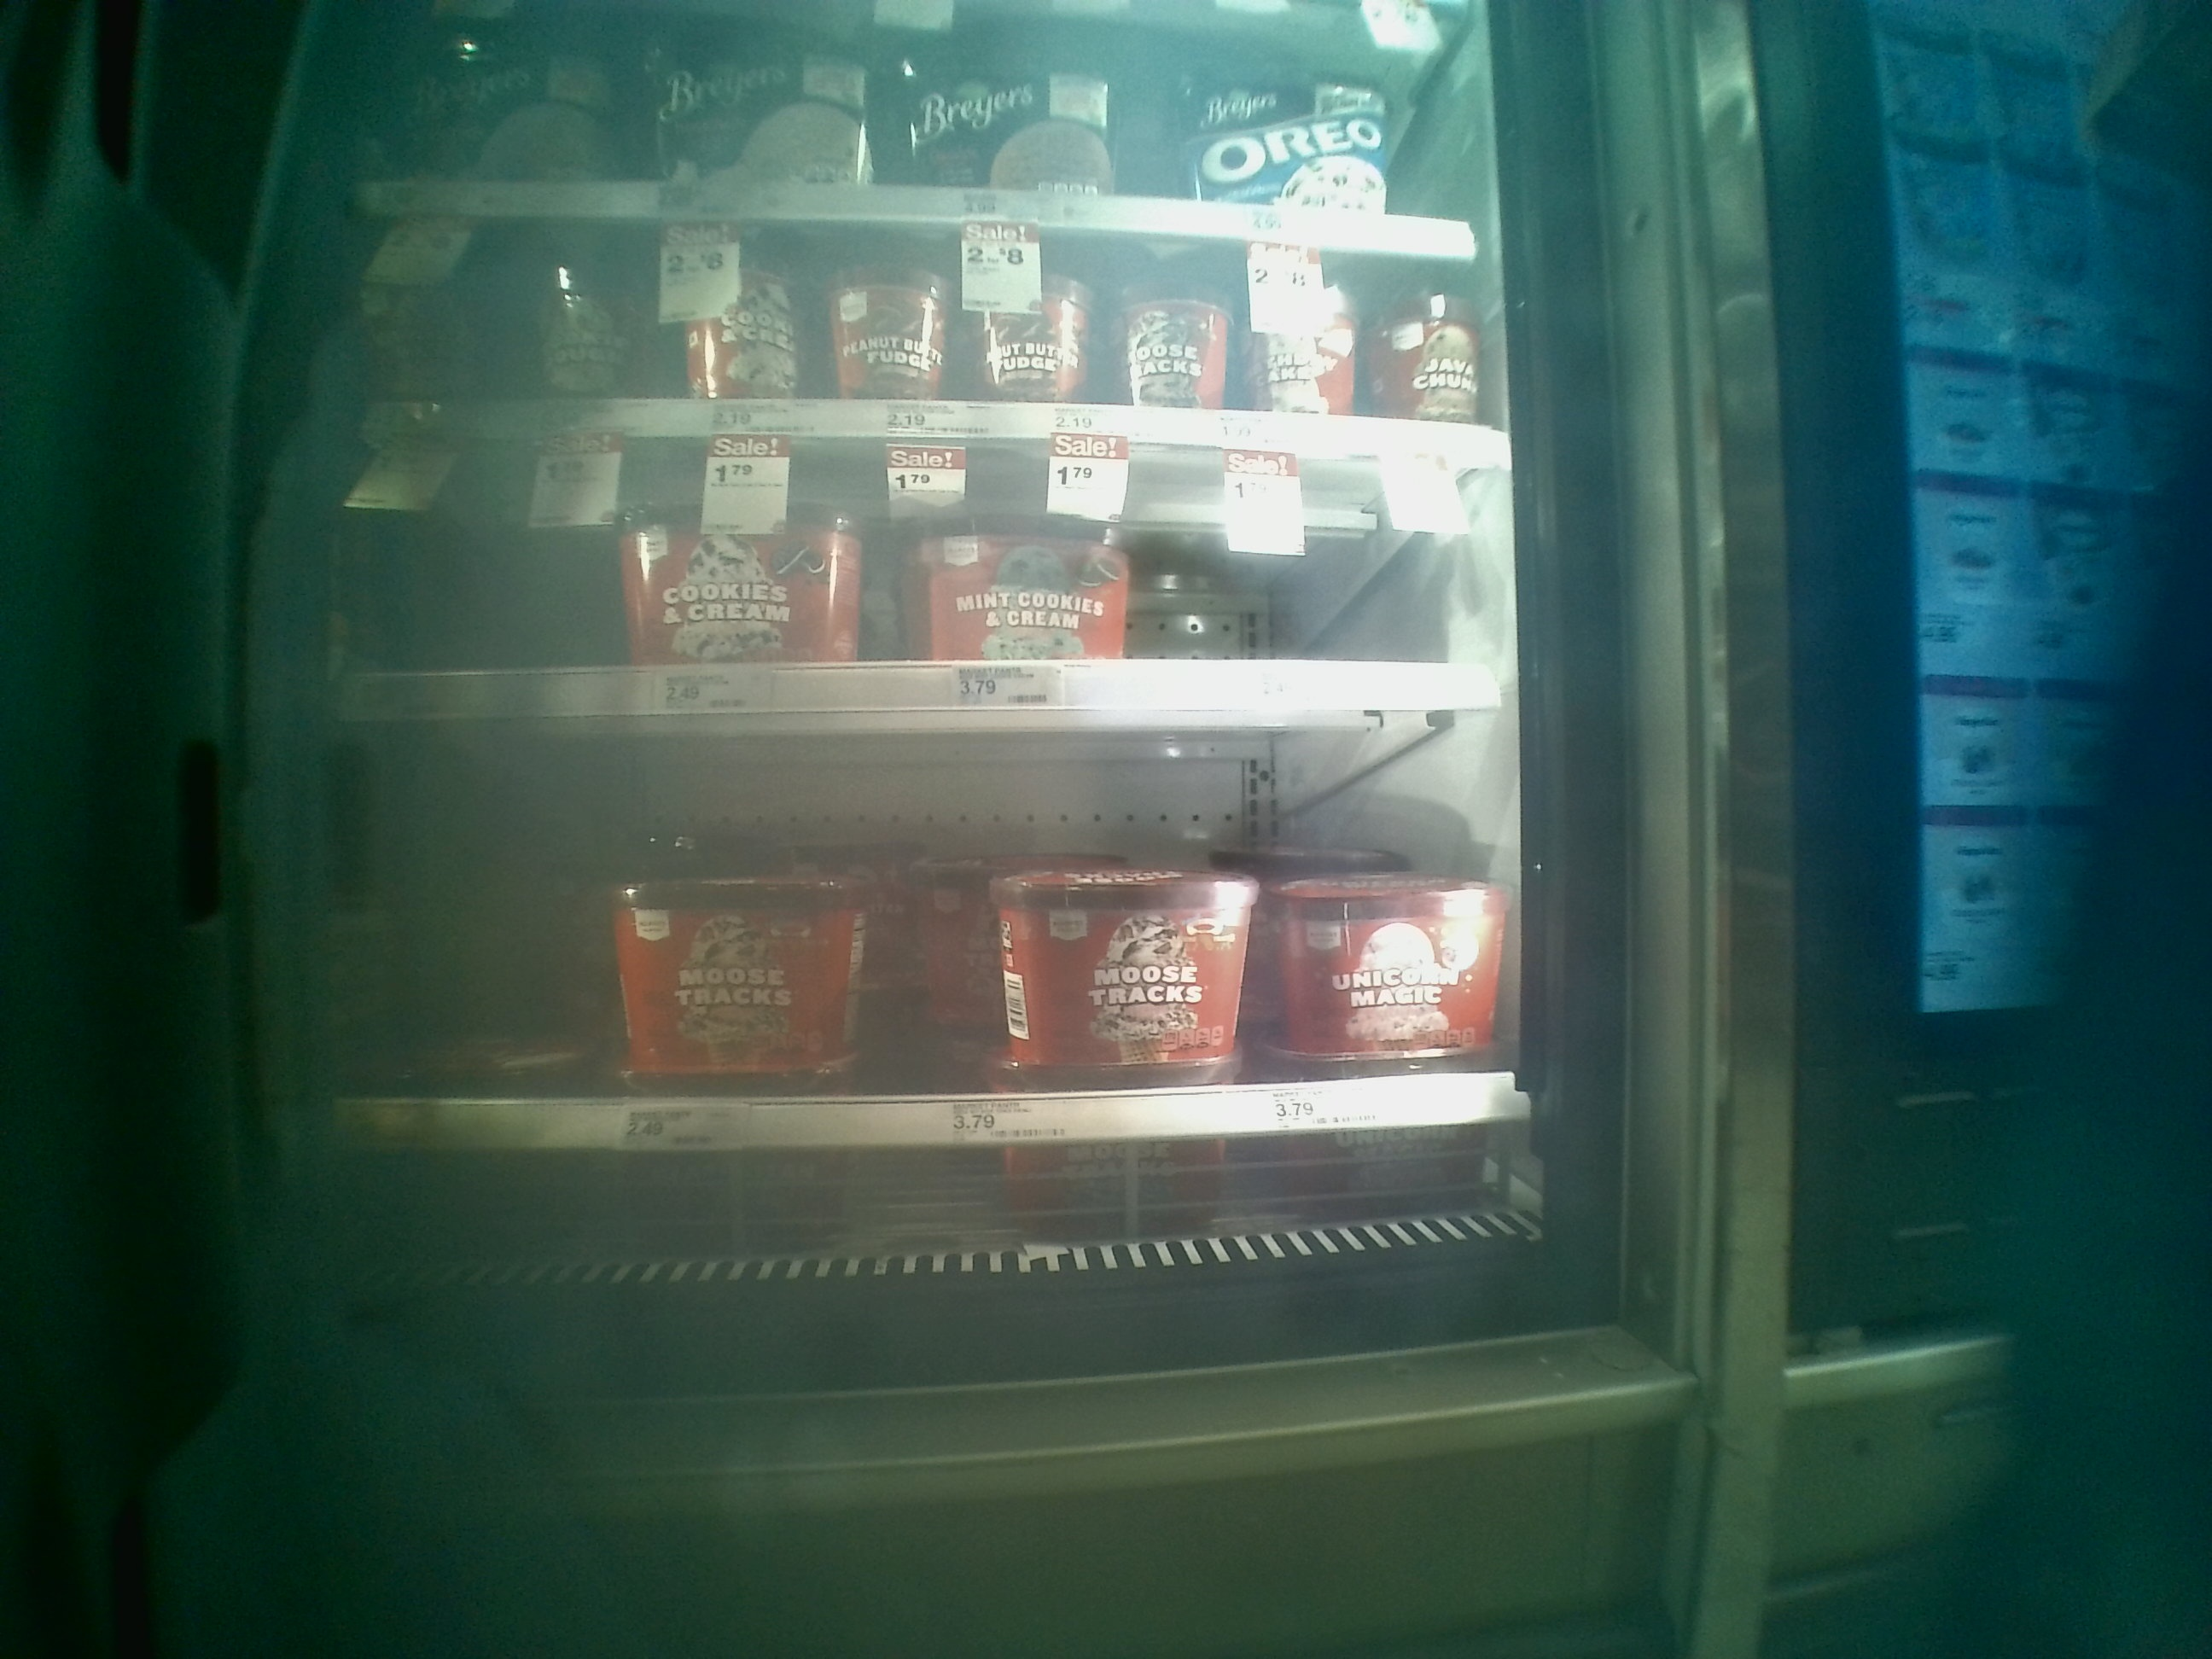ice-cream-shelf: (334, 716, 1529, 1134), (340, 443, 1514, 713), (357, 213, 1491, 441)
